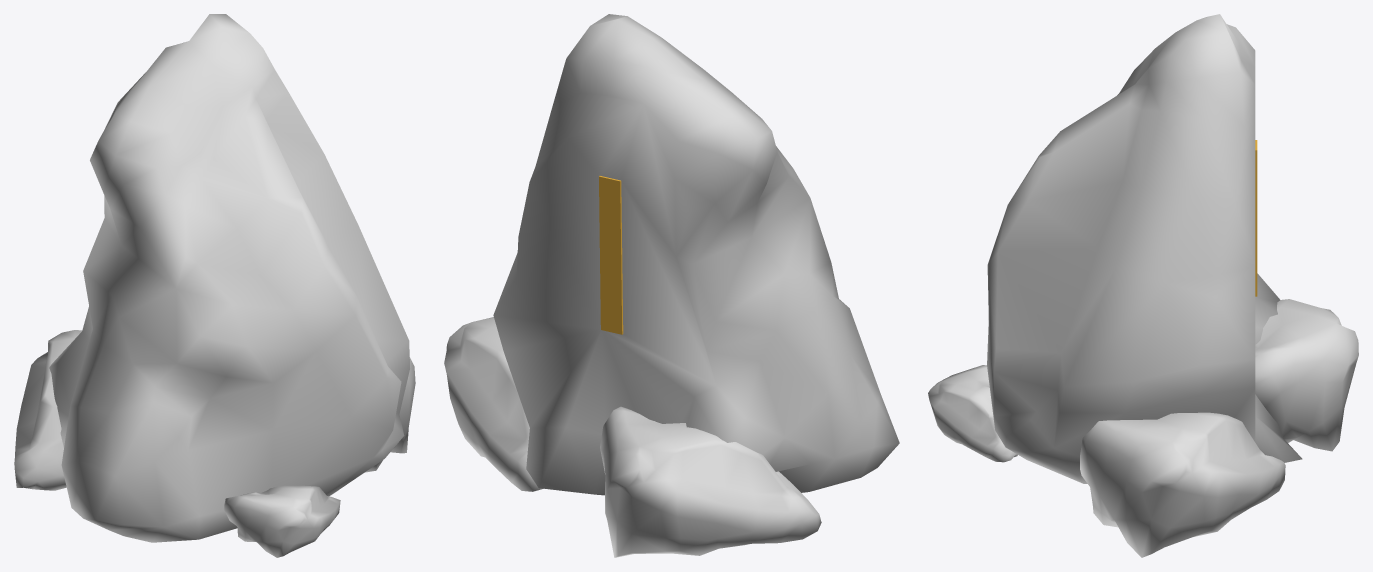
Rendered from Isa.fbx.
The picture shows the model from 3 angles, left to right: view 1: azimuth 30°, elevation 25°; view 2: azimuth 150°, elevation 25°; view 3: azimuth 270°, elevation 25°; orthographic projection. The views are drawn at different scales.
Parts seen in each view (by area): view 1: stone; view 2: stone, Isa; view 3: stone.
Boxes of the visible parts, x1=… form: stone: x1=14, y1=14, x2=415, y2=557; stone: x1=444, y1=14, x2=899, y2=557; Isa: x1=599, y1=176, x2=623, y2=334; stone: x1=928, y1=14, x2=1358, y2=557.
Bounding box in the file's own units: 155 × 181 × 152.
